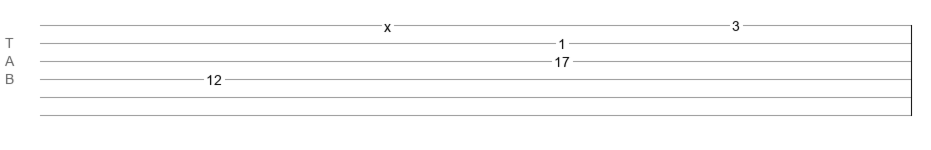1: (558, 36, 566, 46)
12: (206, 72, 222, 82)
17: (554, 54, 570, 64)
3: (732, 18, 740, 28)
x: (384, 19, 391, 27)
